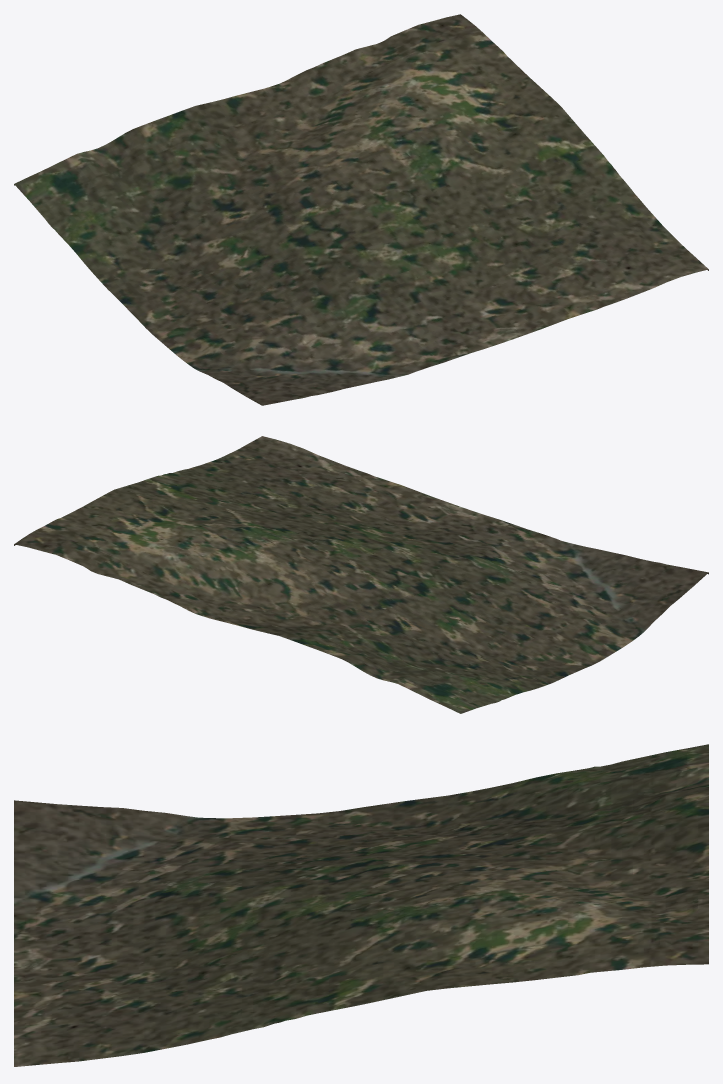
3 views of the same model, one above another, from view 1: azimuth 30°, elevation 25°; view 2: azimuth 150°, elevation 25°; view 3: azimuth 270°, elevation 25° (orthographic). The views are drawn at different scales.
Bounding box in the file's own units: 250 × 61.94 × 241.
Materials: 1 (1 with a texture image).
